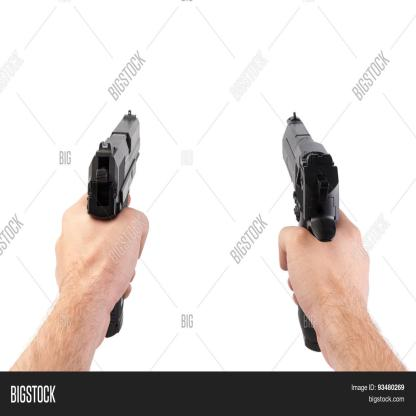handgun: (282, 111, 342, 354), (86, 111, 142, 338)
